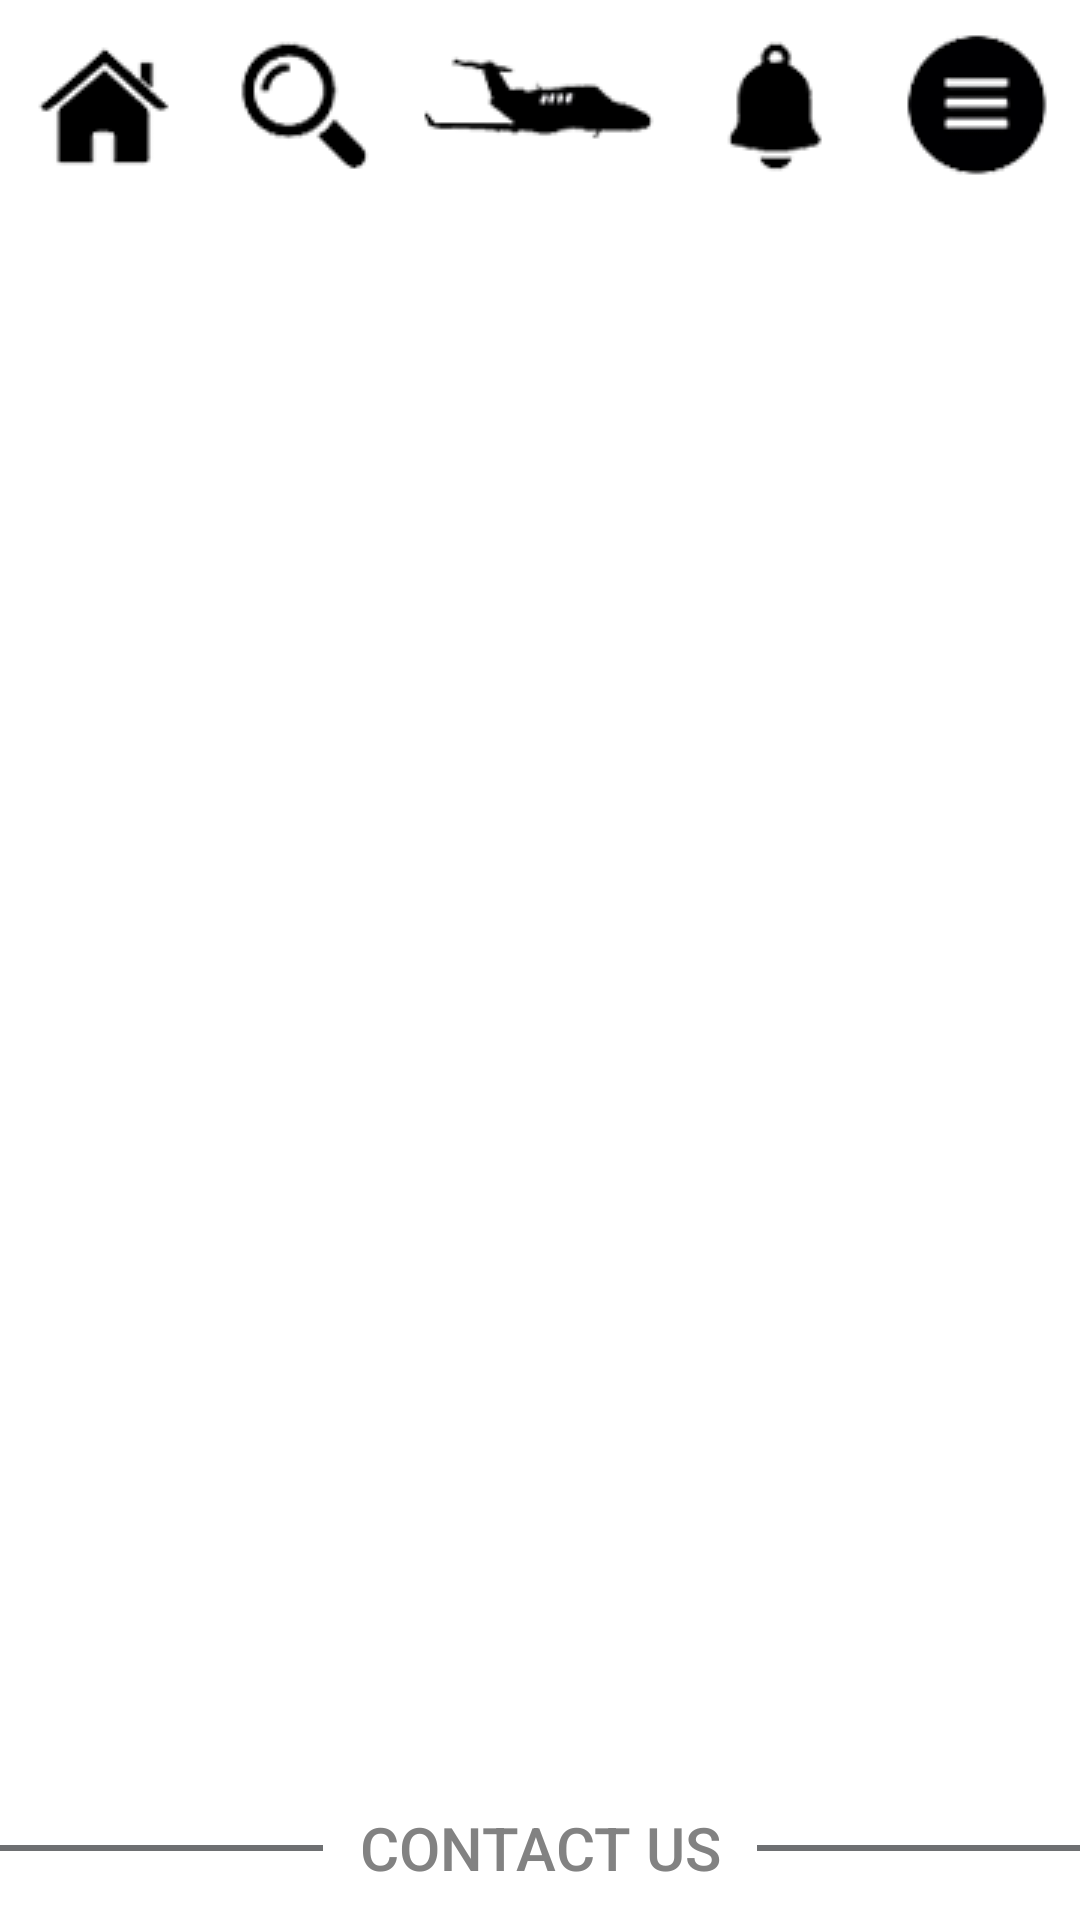

Locate icon controls on the screen. Image size 1080x1920, boxes as [x1, y1, x2, y2].
home: [39, 48, 169, 165]
menu: [907, 35, 1047, 175]
notification: [728, 42, 822, 170]
plane: [424, 57, 653, 139]
search: [241, 42, 367, 169]
